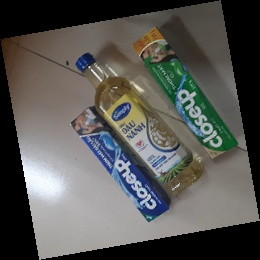CloseUp Tuyet: (69, 106, 170, 224)
CloseUp Xanh: (131, 26, 238, 162)
Simply: (72, 51, 203, 195)
